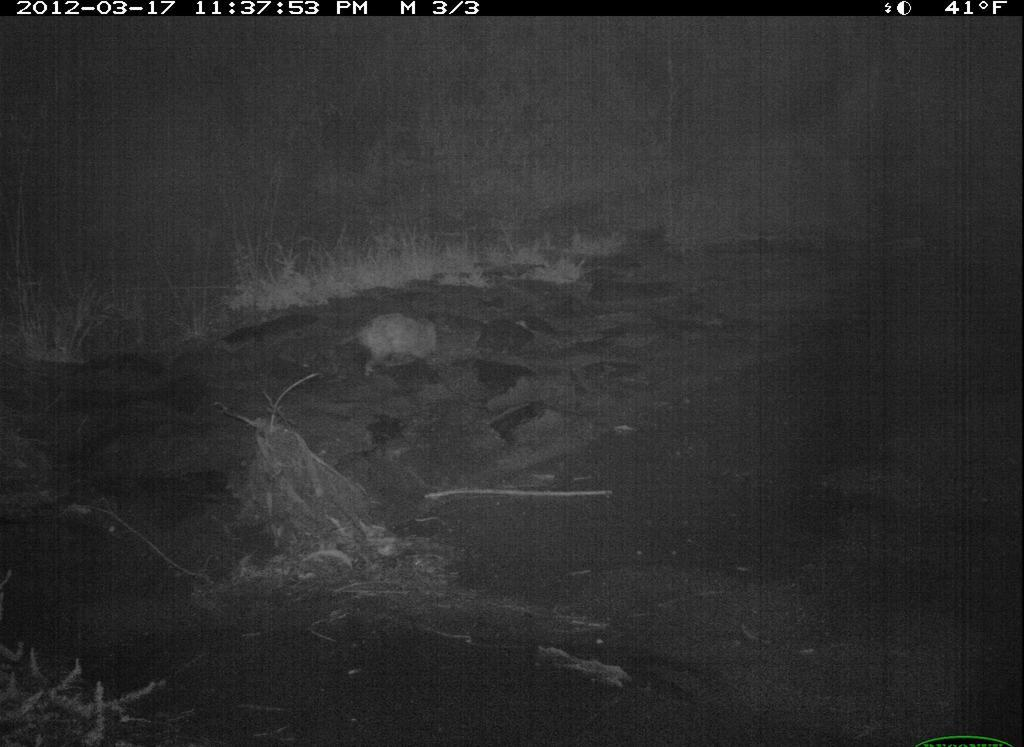opossum: (312, 301, 466, 388)
